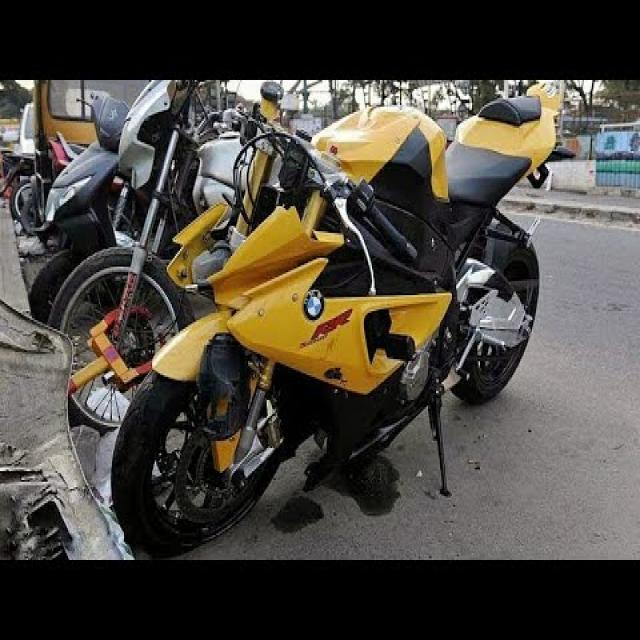accident: (114, 83, 559, 552)
motorcycle: (49, 82, 239, 431), (30, 97, 129, 321)
